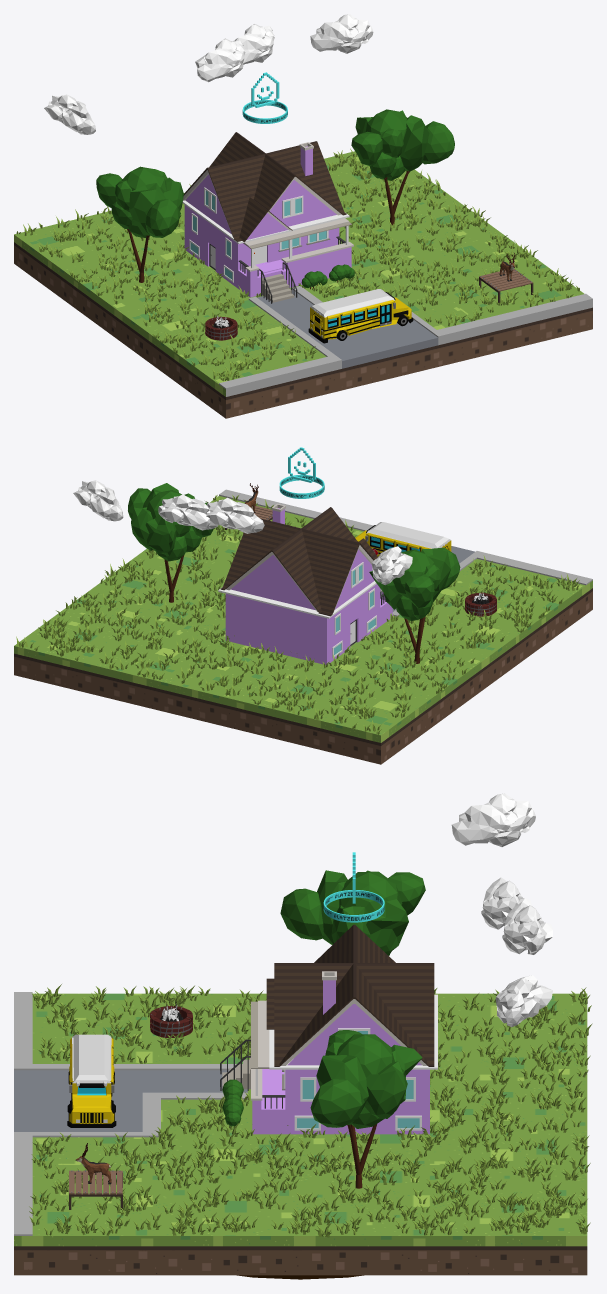
3 renders of one model, top to bottom at view 1: azimuth 30°, elevation 25°; view 2: azimuth 150°, elevation 25°; view 3: azimuth 270°, elevation 25°, orthographic. The views are drawn at different scales.
Visible parts, largest first — view 1: Cube.006, Cube.391, Circle.012_Grass_0.192, Cube.007, tree, tree.001, VEHICLES_SCHOOL_BUS, TYPE_PREMIUM, Cube.009, OBJRANDOM_CAMPFIRE; view 2: Cube.006, Cube.391, Circle.012_Grass_0.192, Cube.007, tree.001, tree, VEHICLES_SCHOOL_BUS, TYPE_PREMIUM, OBJRANDOM_CAMPFIRE; view 3: Cube.006, Circle.012_Grass_0.192, Cube.391, tree, Cube.007, tree.001, VEHICLES_SCHOOL_BUS, Cube.009, OBJRANDOM_CAMPFIRE, TYPE_PREMIUM.
Part boxes in pixels (box(x1,y1,x2,y2)): Cube.006: box(14, 151, 592, 418); Cube.391: box(182, 132, 353, 303); Circle.012_Grass_0.192: box(16, 148, 579, 381); Cube.007: box(44, 14, 373, 134); tree: box(351, 109, 454, 225); tree.001: box(96, 166, 183, 282); VEHICLES_SCHOOL_BUS: box(308, 289, 413, 343); TYPE_PREMIUM: box(242, 72, 287, 123); Cube.009: box(479, 268, 533, 302); OBJRANDOM_CAMPFIRE: box(205, 315, 237, 340); Cube.006: box(14, 489, 592, 764); Cube.391: box(218, 503, 392, 664); Circle.012_Grass_0.192: box(16, 495, 579, 734); Cube.007: box(73, 480, 412, 585); tree.001: box(369, 547, 460, 663); tree: box(128, 483, 213, 602); VEHICLES_SCHOOL_BUS: box(355, 522, 451, 556); TYPE_PREMIUM: box(279, 447, 324, 498); OBJRANDOM_CAMPFIRE: box(465, 591, 496, 616); Cube.006: box(14, 992, 587, 1275); Circle.012_Grass_0.192: box(29, 984, 592, 1237); Cube.391: box(220, 924, 437, 1134); tree: box(310, 1030, 422, 1188); Cube.007: box(451, 793, 552, 1027); tree.001: box(280, 870, 425, 955); VEHICLES_SCHOOL_BUS: box(67, 1034, 116, 1127); Cube.009: box(69, 1170, 122, 1209); OBJRANDOM_CAMPFIRE: box(150, 1004, 192, 1037); TYPE_PREMIUM: box(323, 852, 384, 922).
Size of the model in its own units: 4071 by 2367 by 4040.
44 materials, 4 textured.
